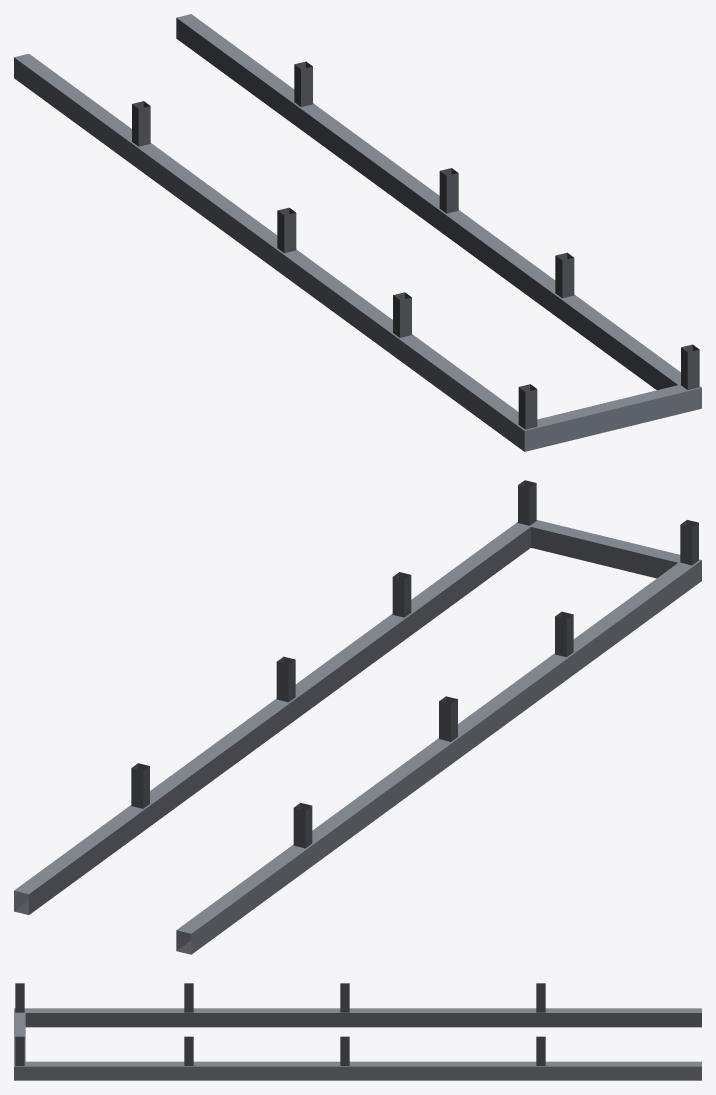
File: AI_Env_Roof_Pipe.fbx
3 views of the same model, one above another, from view 1: azimuth 30°, elevation 25°; view 2: azimuth 150°, elevation 25°; view 3: azimuth 270°, elevation 25° (orthographic). The views are drawn at different scales.
Visible parts, largest first — view 1: AI_Env_Roof_Pipe; view 2: AI_Env_Roof_Pipe; view 3: AI_Env_Roof_Pipe.
Part boxes in pixels (box(x1,y1,x2,y2)): AI_Env_Roof_Pipe: box(14, 14, 701, 451); AI_Env_Roof_Pipe: box(14, 480, 701, 954); AI_Env_Roof_Pipe: box(14, 983, 701, 1080).
Bounding box in the file's own units: 4.91 × 1.55 × 24.48.
